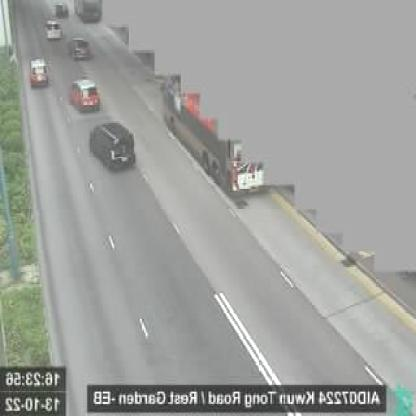Car: (87, 118, 136, 172), (70, 78, 102, 112), (29, 57, 51, 89), (70, 36, 93, 62), (44, 18, 62, 40), (54, 5, 68, 18)
